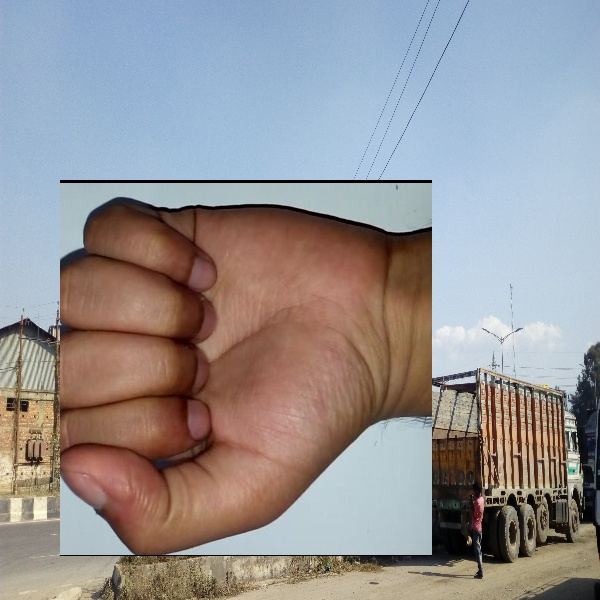A: (60, 180, 432, 556)
